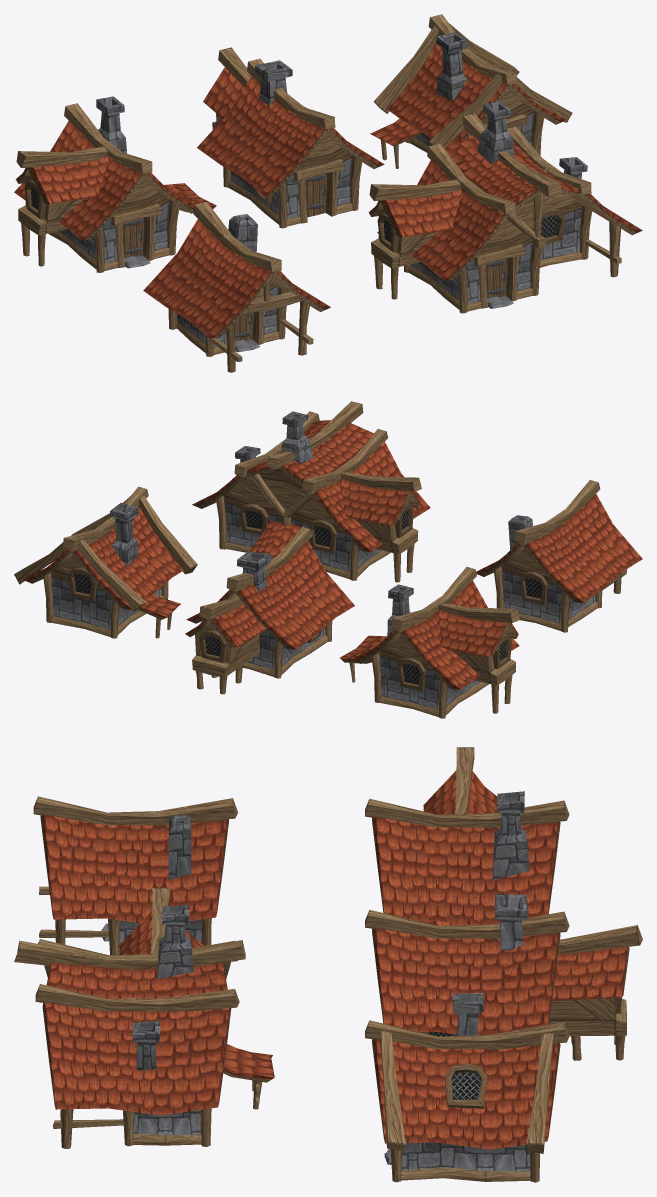
File: village_01.FBX
The picture shows the model from 3 angles, top to bottom: view 1: azimuth 30°, elevation 25°; view 2: azimuth 150°, elevation 25°; view 3: azimuth 270°, elevation 25°; orthographic projection. The views are drawn at different scales.
Visible parts, largest first — view 1: village_house_005, village_house_001, village_house_002, village_house_004, village_house_003; view 2: village_house_005, village_house_001, village_house_002, village_house_003, village_house_004; view 3: village_house_005, village_house_002, village_house_003, village_house_001, village_house_004.
Boxes of the visible parts, x1=… form: village_house_005: x1=368, y1=101, x2=642, y2=313; village_house_001: x1=14, y1=96, x2=216, y2=272; village_house_002: x1=197, y1=47, x2=384, y2=228; village_house_004: x1=143, y1=201, x2=330, y2=372; village_house_003: x1=370, y1=14, x2=572, y2=168; village_house_005: x1=192, y1=401, x2=430, y2=582; village_house_001: x1=340, y1=567, x2=519, y2=718; village_house_002: x1=185, y1=526, x2=354, y2=694; village_house_003: x1=14, y1=486, x2=197, y2=638; village_house_004: x1=476, y1=480, x2=642, y2=632; village_house_005: x1=14, y1=887, x2=274, y2=1148; village_house_002: x1=365, y1=894, x2=642, y2=1060; village_house_003: x1=365, y1=992, x2=569, y2=1182; village_house_001: x1=365, y1=747, x2=569, y2=925; village_house_004: x1=33, y1=796, x2=238, y2=955.
Size of the model in its own units: 721 by 203 by 598.
